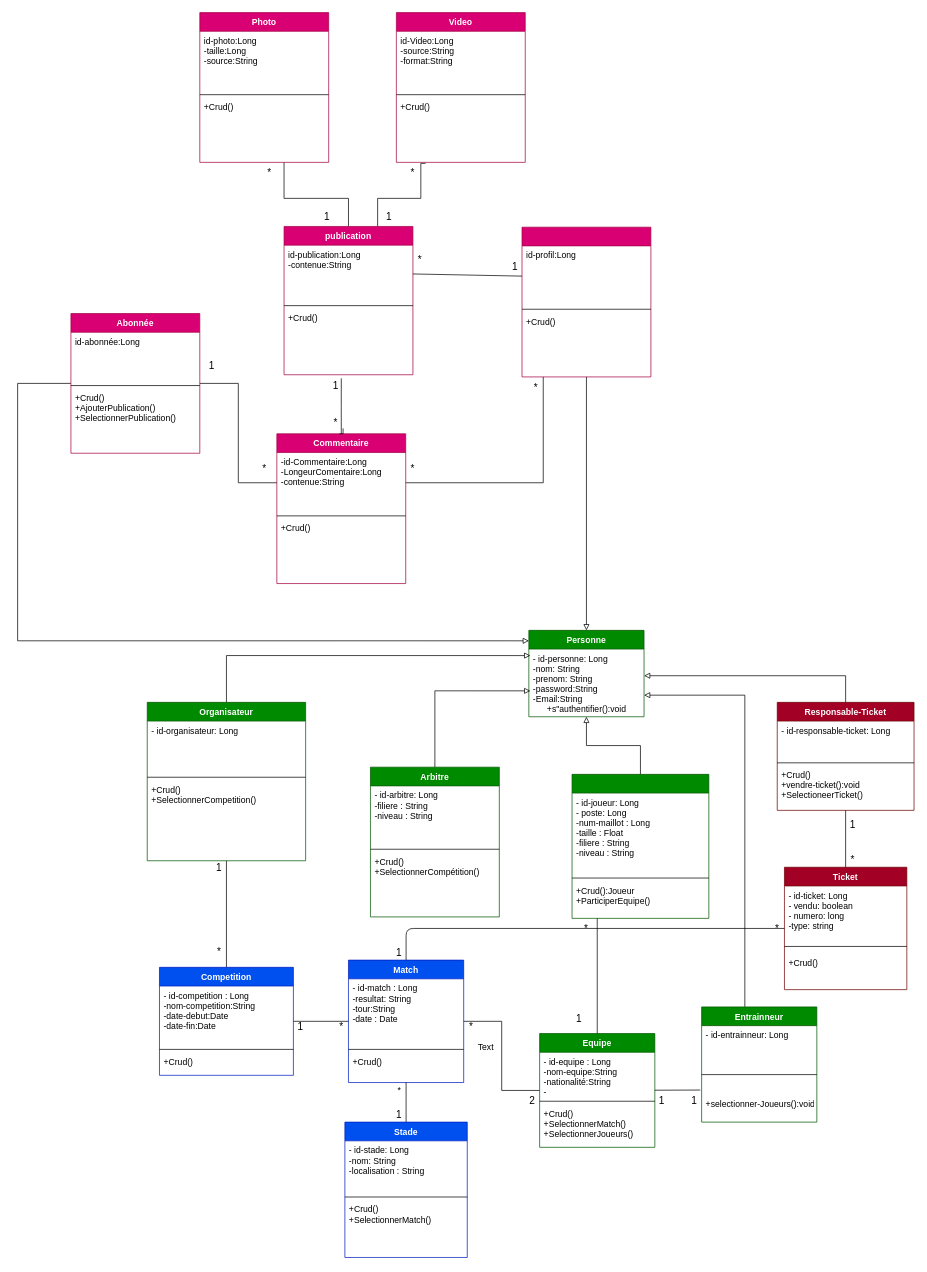
This 927x1272 diagram has some shape labels left out. The box of each missing label's shape, as (x1, y1, x2, y2) in pixels:
Joueurs: (571, 774, 709, 918)
Responsable publication: (521, 226, 651, 377)
